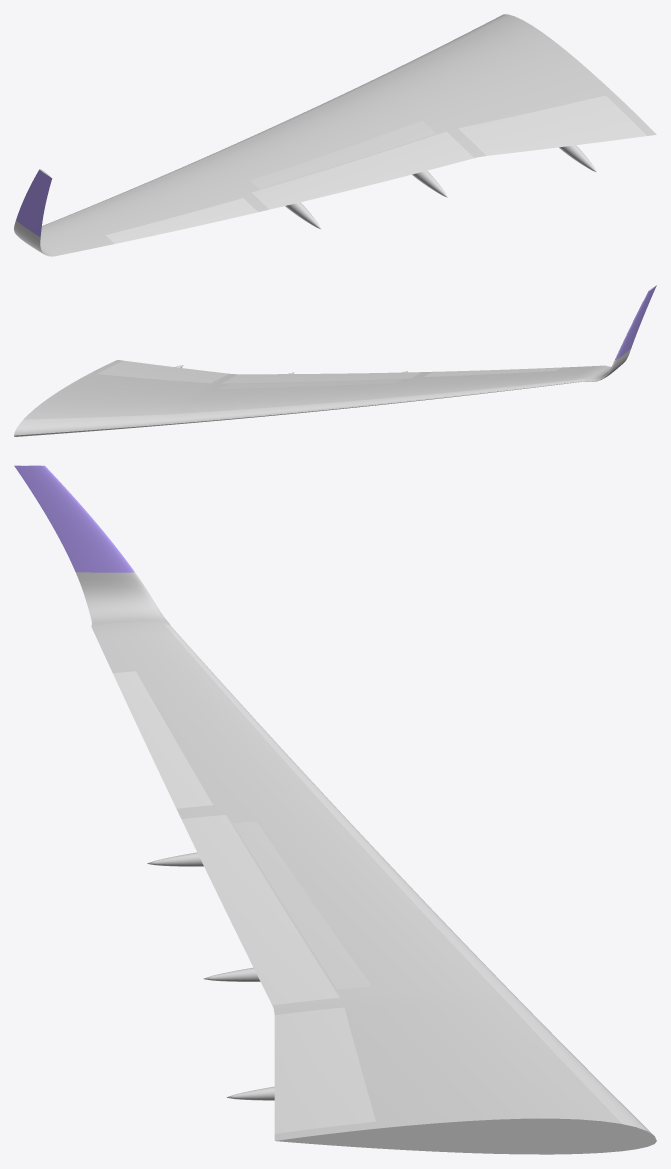
The model's file is wing.glb.
3 views of the same model, one above another, from view 1: azimuth 30°, elevation 25°; view 2: azimuth 150°, elevation 25°; view 3: azimuth 270°, elevation 25° (orthographic). The views are drawn at different scales.
Visible parts, largest first — view 1: Wing, Fairing 1; view 2: Wing; view 3: Wing.
Boxes of the visible parts, x1,y1,x2,y2 form: Wing: [14, 14, 656, 256]; Fairing 1: [559, 145, 596, 171]; Wing: [14, 285, 656, 436]; Wing: [14, 465, 656, 1154].
Bounding box in the file's own units: 16.18 × 4.77 × 10.41.
